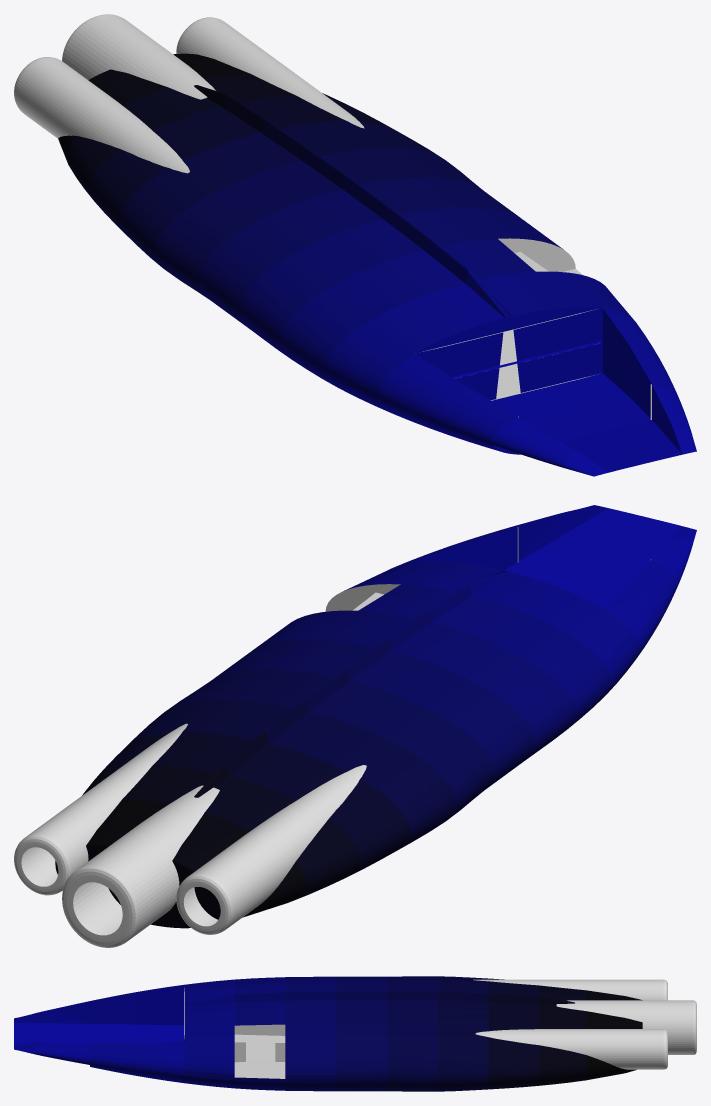
Rendered from holo_starship_a.gltf.
The picture shows the model from 3 angles, top to bottom: view 1: azimuth 30°, elevation 25°; view 2: azimuth 150°, elevation 25°; view 3: azimuth 270°, elevation 25°; orthographic projection. The views are drawn at different scales.
Parts seen in each view (by area): view 1: ship; view 2: ship; view 3: ship.
Boxes of the visible parts, x1,y1,x2,y2 form: ship: (14, 14, 696, 476); ship: (14, 505, 696, 947); ship: (14, 976, 696, 1091).
Bounding box in the file's own units: 33.19 × 13.28 × 104.
